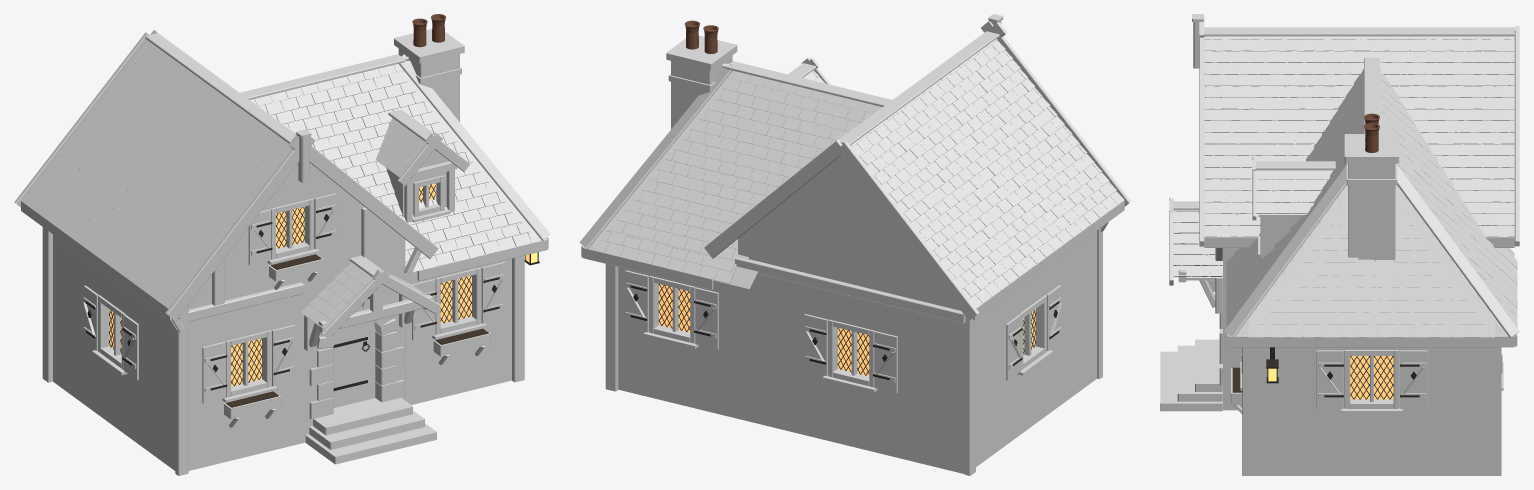
Rendered from SilverbrookCottage2.glb.
The picture shows the model from 3 angles, left to right: view 1: azimuth 30°, elevation 25°; view 2: azimuth 150°, elevation 25°; view 3: azimuth 270°, elevation 25°; orthographic projection. The views are drawn at different scales.
Parts seen in each view (by area): view 1: SM_SBCottage2_Roof, SM_SBCottage2_Masonry, SM_SBCottage2_Timber, SM_SBCottage2_Details, SM_SBCottage2_Details_Door1; view 2: SM_SBCottage2_Roof, SM_SBCottage2_Masonry, SM_SBCottage2_Timber, SM_SBCottage2_Details; view 3: SM_SBCottage2_Roof, SM_SBCottage2_Masonry, SM_SBCottage2_Timber, SM_SBCottage2_Details.
Boxes of the visible parts, x1,y1,x2,y2 form: SM_SBCottage2_Roof: (21, 33, 550, 329); SM_SBCottage2_Masonry: (53, 29, 511, 470); SM_SBCottage2_Timber: (14, 30, 548, 475); SM_SBCottage2_Details: (83, 14, 539, 407); SM_SBCottage2_Details_Door1: (333, 320, 375, 407); SM_SBCottage2_Roof: (579, 31, 1123, 308); SM_SBCottage2_Masonry: (618, 35, 1096, 473); SM_SBCottage2_Timber: (581, 14, 1131, 475); SM_SBCottage2_Details: (625, 20, 1061, 393); SM_SBCottage2_Roof: (1173, 27, 1519, 337); SM_SBCottage2_Masonry: (1160, 134, 1496, 475); SM_SBCottage2_Timber: (1169, 14, 1519, 475); SM_SBCottage2_Details: (1232, 113, 1502, 409).
Size of the model in its own units: 7.86 by 5.99 by 5.79.
